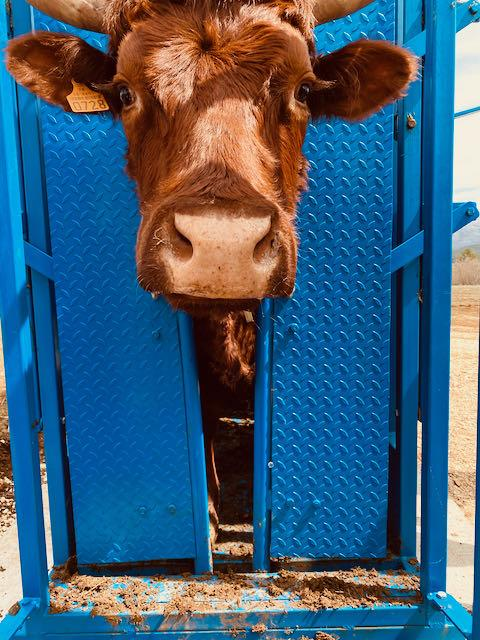muzzles: (140, 184, 298, 312)
